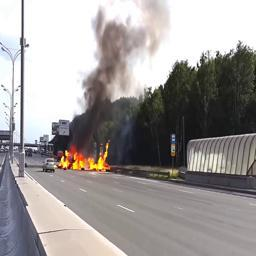fire: (58, 142, 112, 171)
